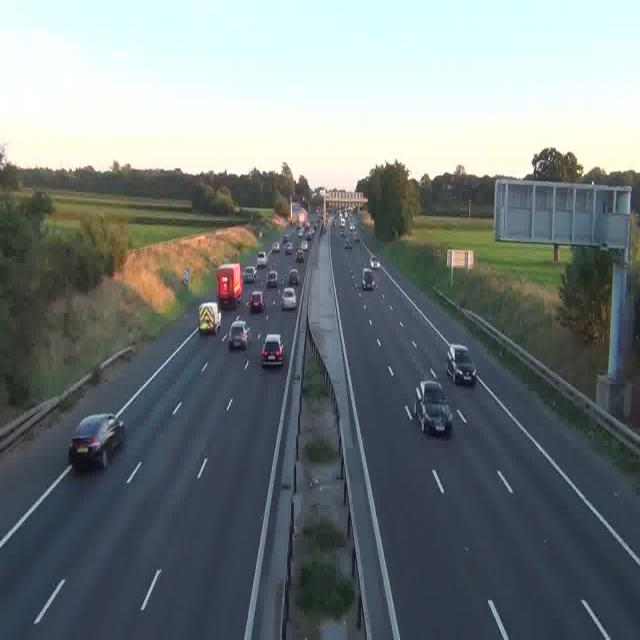car: (68, 414, 124, 470), (414, 380, 452, 434), (446, 344, 476, 385), (260, 333, 284, 368), (198, 302, 220, 334), (228, 320, 250, 349), (281, 287, 297, 310), (248, 290, 264, 311), (362, 268, 374, 290), (243, 264, 256, 282), (287, 266, 299, 284), (267, 271, 279, 288), (256, 252, 266, 266), (370, 257, 380, 270), (296, 249, 304, 262), (344, 236, 352, 249), (306, 232, 314, 244)
truck: (218, 264, 244, 308), (298, 212, 308, 232)
